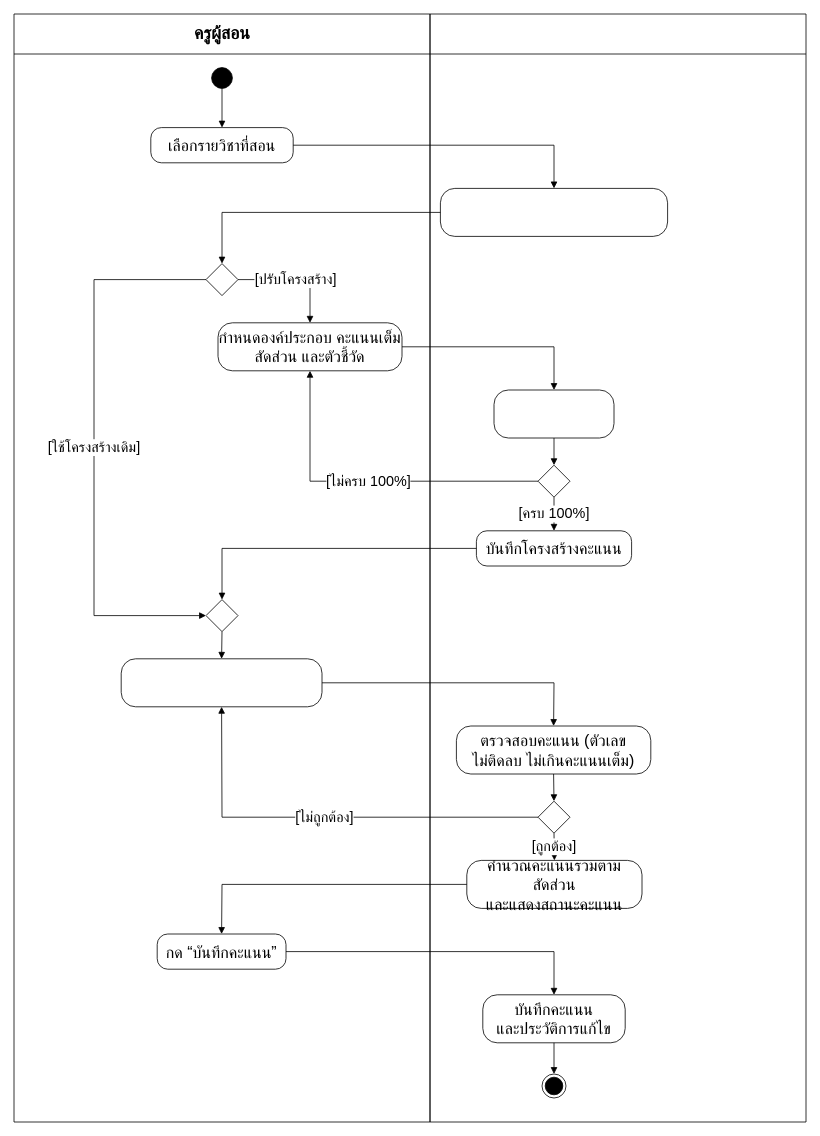
The diagram is 820 pixels wide and 1136 high, and some of its shapes have lost their labels. The box of each missing label's shape, as (x1, y1, x2, y2) in pixels:
ตรวจสอบผลรวม สัดส่วนคะแนน: (493, 389, 614, 438)
ระบบ: (429, 13, 806, 1122)
เลือกห้องเรียนและองค์ประกอบ แล้วกรอกหรือนำเข้าคะแนน: (120, 658, 322, 707)
แสดงโครงสร้างคะแนน (ใช้ค่า ตั้งต้นของรายวิชาถ้ายังไม่ตั้ง): (440, 188, 668, 236)
